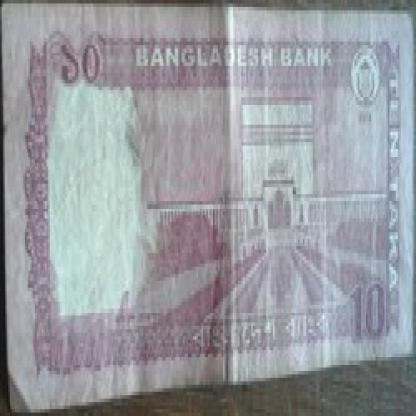Ten Taka: (57, 38, 108, 101), (343, 274, 386, 347)
